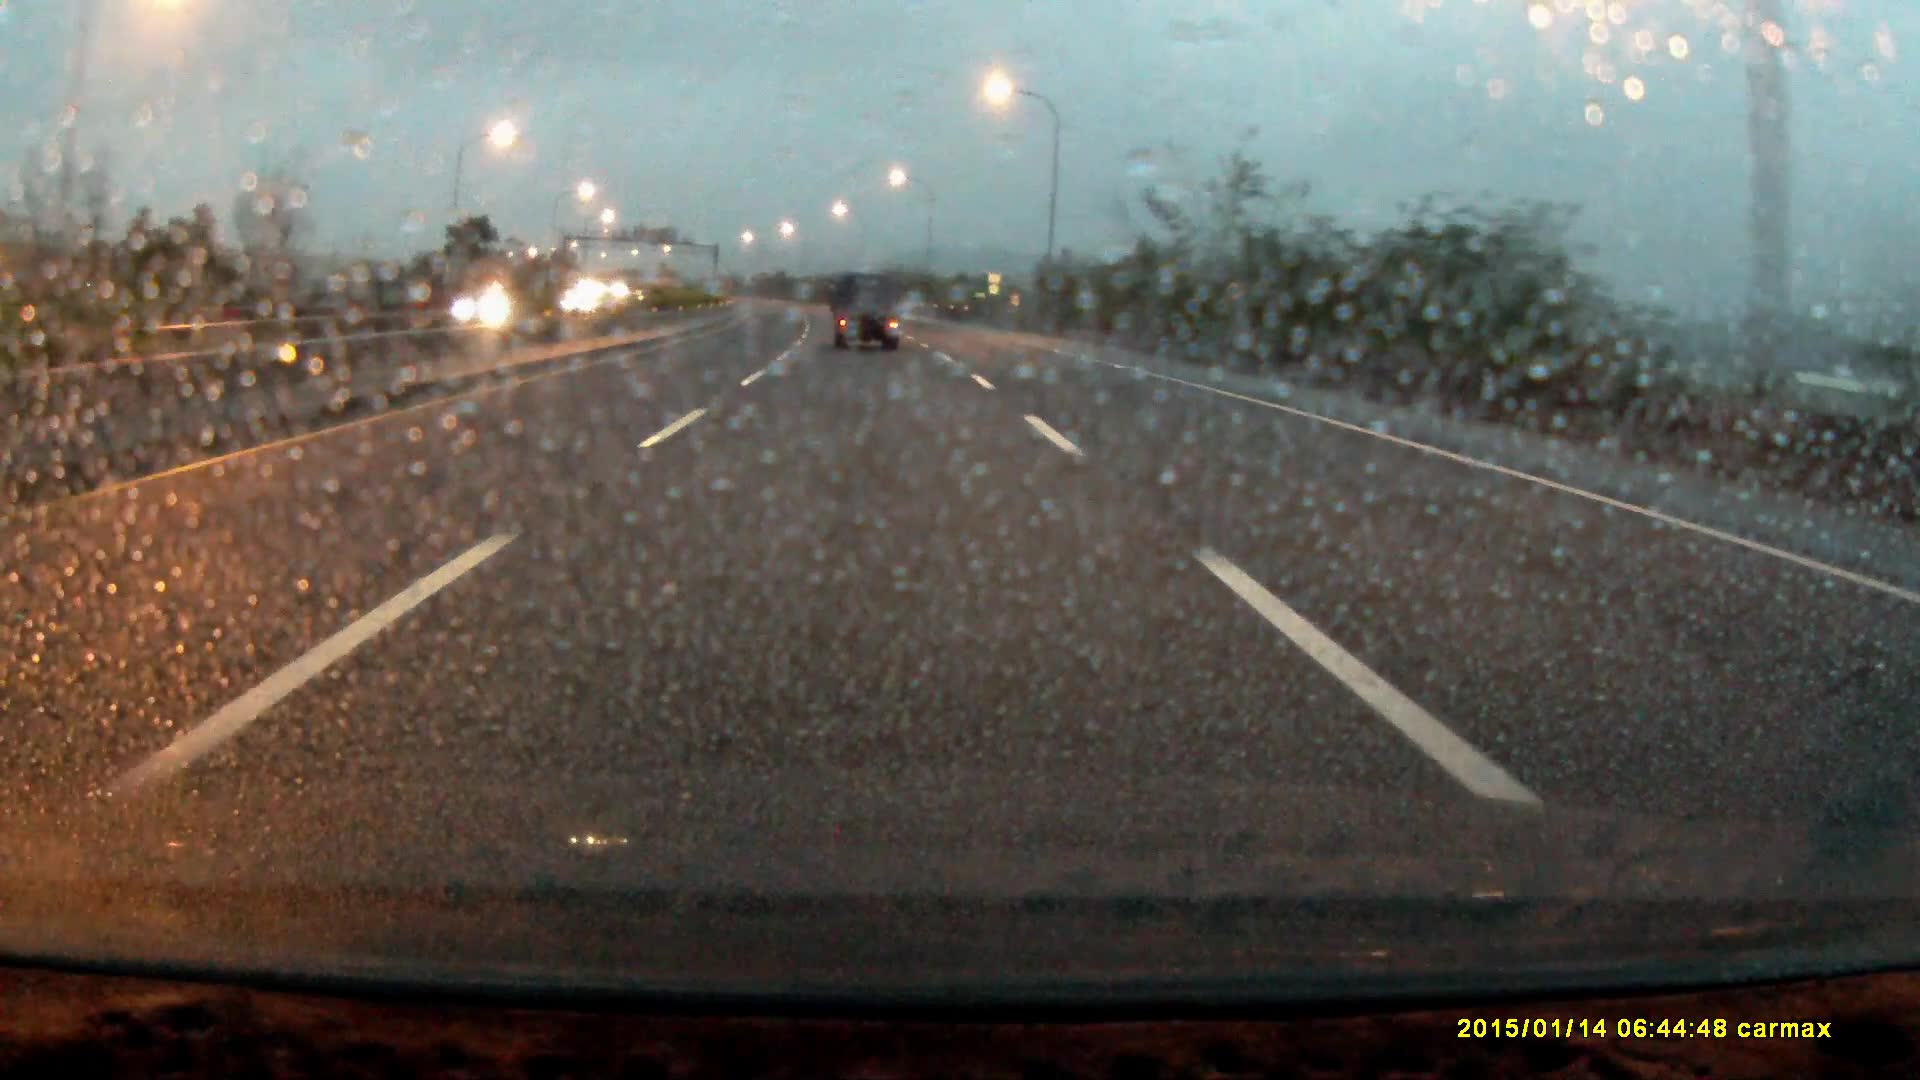vehicle: (833, 276, 901, 351), (447, 287, 530, 326)
